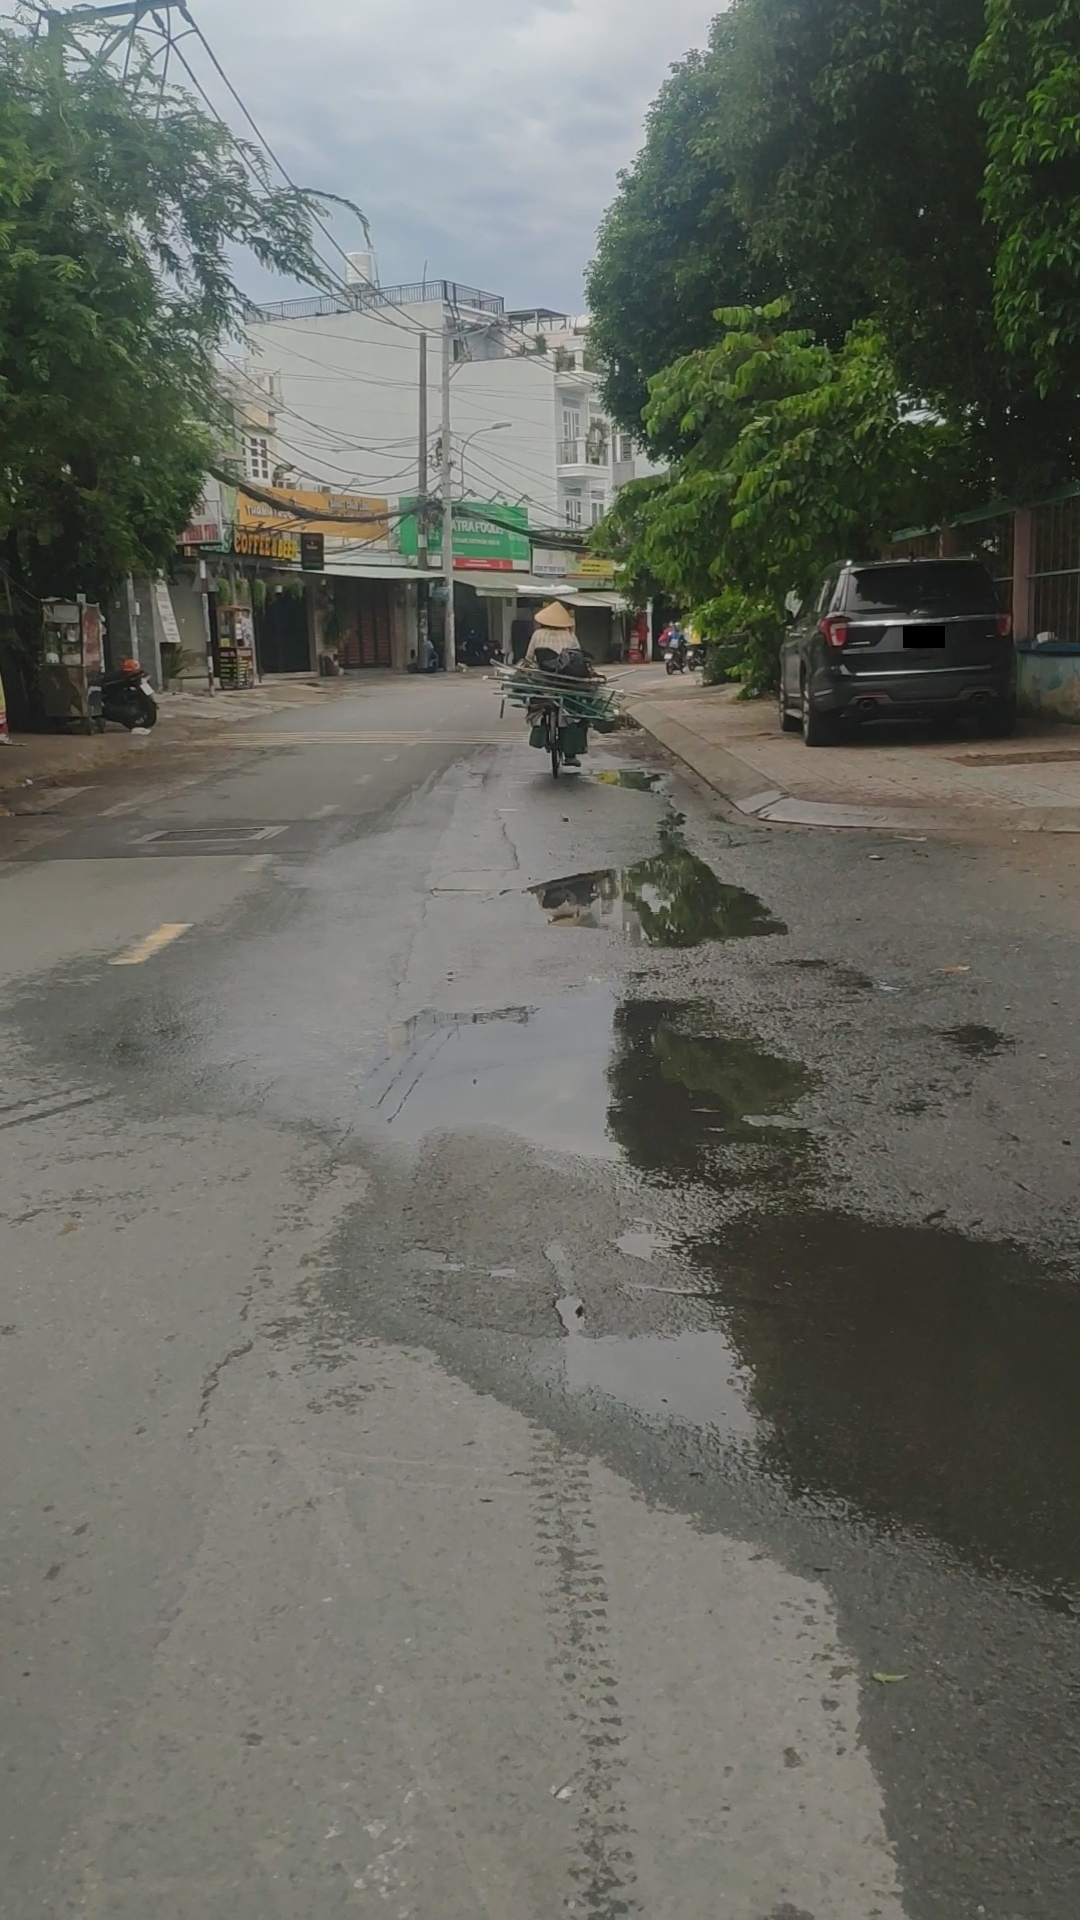hole: (550, 1199, 1080, 1586), (411, 1000, 833, 1185), (530, 848, 796, 956), (907, 1014, 1042, 1071), (584, 765, 678, 796), (654, 810, 694, 847)
